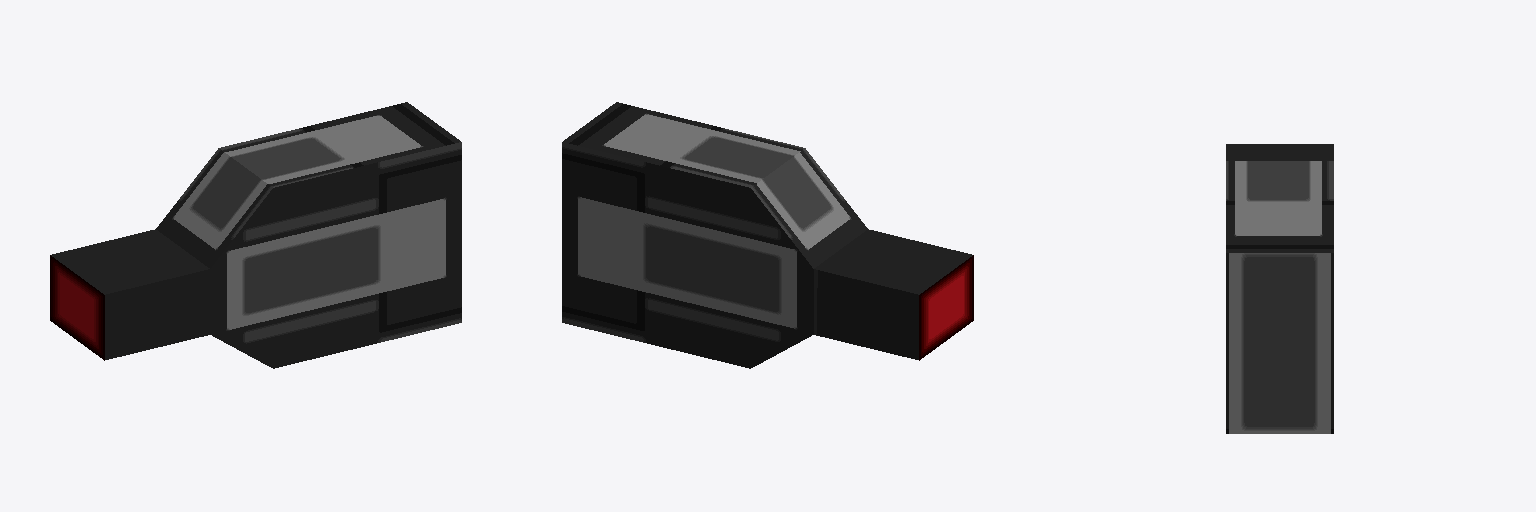
3 renders of one model, left to right at view 1: azimuth 30°, elevation 25°; view 2: azimuth 150°, elevation 25°; view 3: azimuth 270°, elevation 25°, orthographic.
Visible parts, largest first — view 1: entity0_brush1.002; view 2: entity0_brush1.002; view 3: entity0_brush1.002.
Part boxes in pixels (left/top/right/bottom): entity0_brush1.002: left=50, top=102, right=461, bottom=368; entity0_brush1.002: left=562, top=102, right=973, bottom=368; entity0_brush1.002: left=1226, top=144, right=1333, bottom=433.
Size of the model in its own units: 90.89 by 44 by 24.
2 materials, 2 textured.